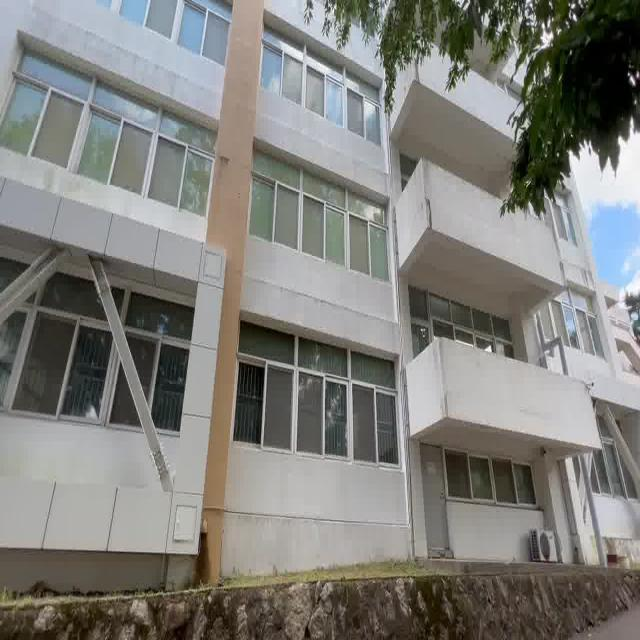building: (0, 0, 537, 547)
